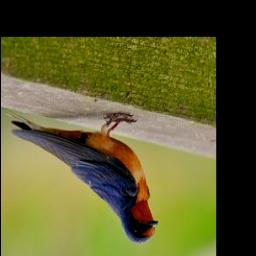Swallow: (10, 104, 163, 249)
